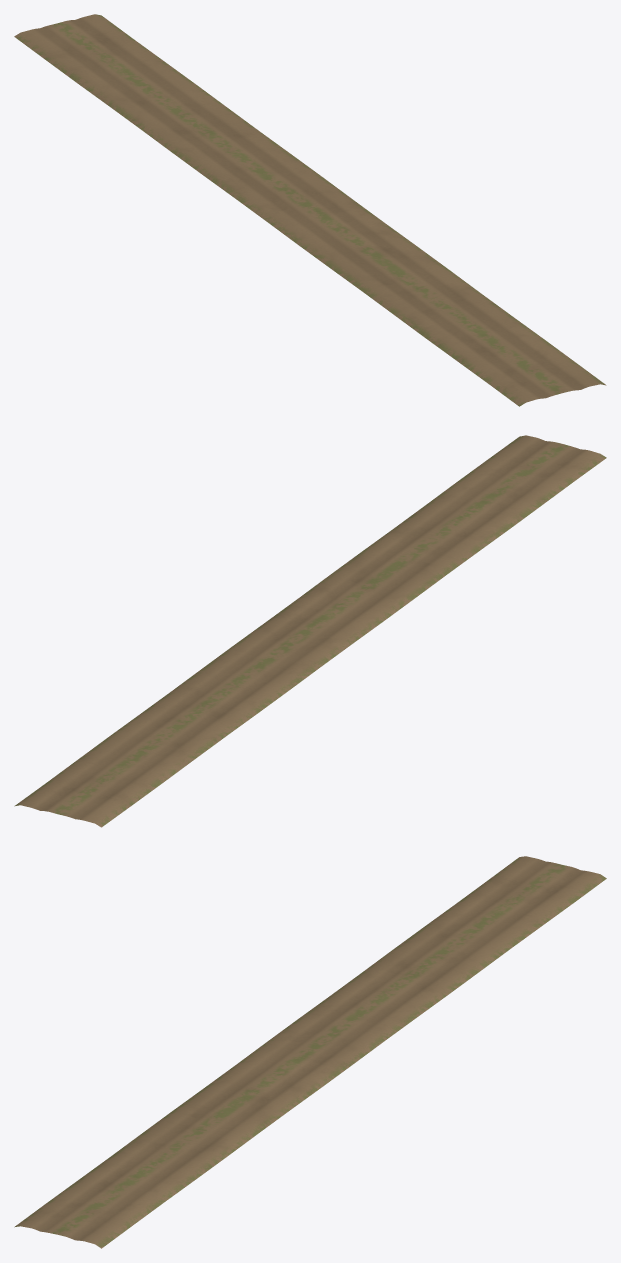
Rendered from dirt-track.fbx.
3 views of the same model, one above another, from view 1: azimuth 30°, elevation 25°; view 2: azimuth 150°, elevation 25°; view 3: azimuth 330°, elevation 25° (orthographic).
Visible parts, largest first — view 1: dirt-track; view 2: dirt-track; view 3: dirt-track.
Part boxes in pixels (left/top/right/bottom): dirt-track: left=14, top=14, right=606, bottom=406; dirt-track: left=14, top=435, right=606, bottom=827; dirt-track: left=14, top=856, right=606, bottom=1248.
Bounding box in the file's own units: 20 × 0.7298 × 200.
1 material, 1 textured.
